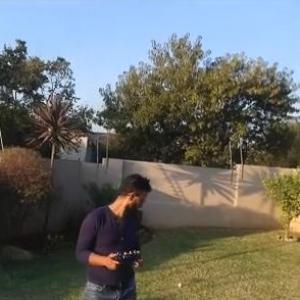follow: (72, 169, 156, 299)
